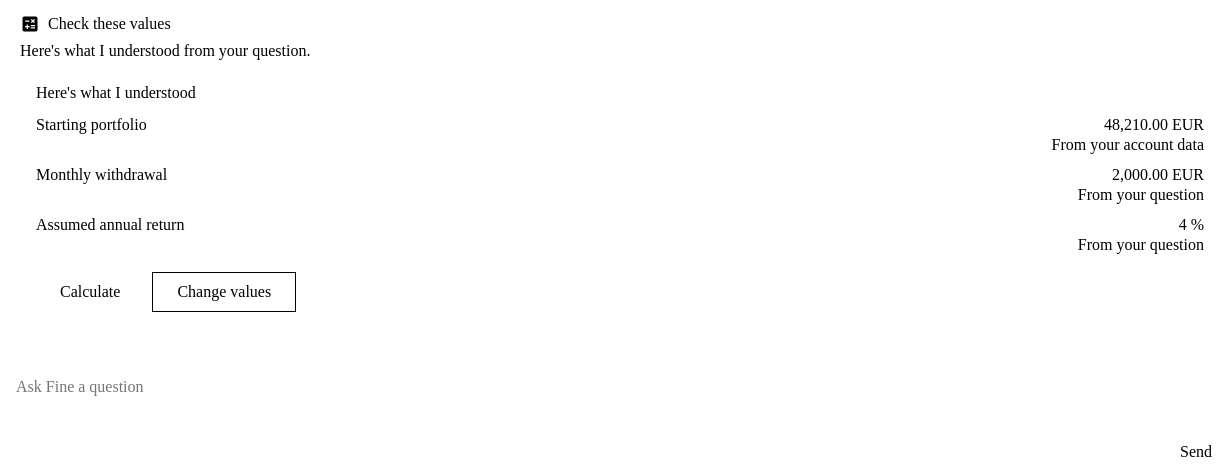
Test: ChatColumnComponent › shows a proposal the backend already cancelled as Cancelled after Calculate
The image size is (1229, 474).
What coordinates should you click on to do the following:
click the button with class "calculate"
I would click on:
 (90, 292)
Its box is [36,272,144,312].
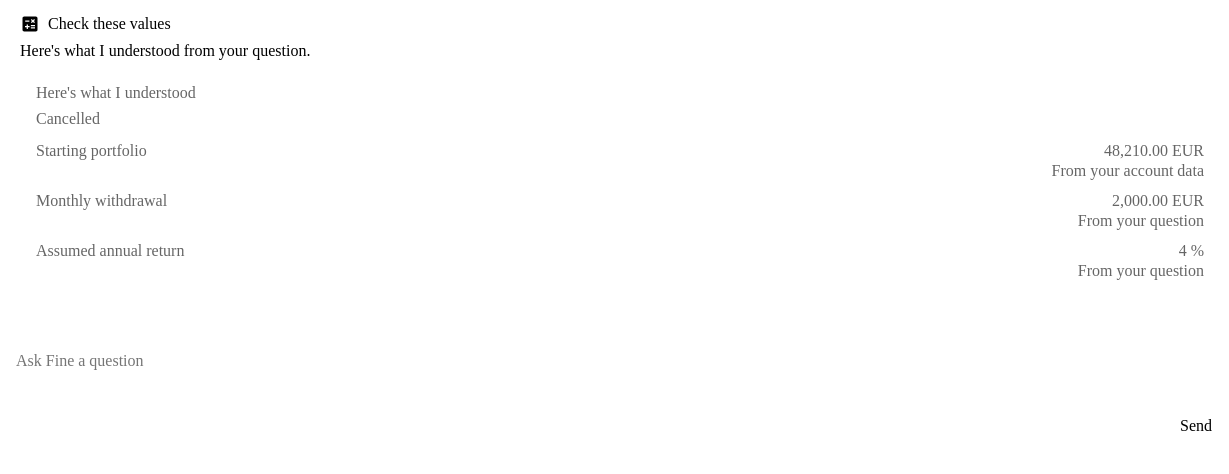
Check: the text "Cancelled" is shown, box [36,110,100,127]
